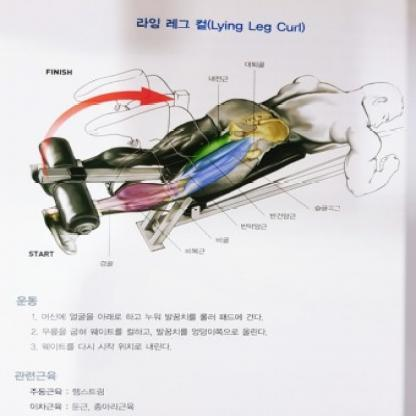reg curl machine: (24, 58, 411, 276)
